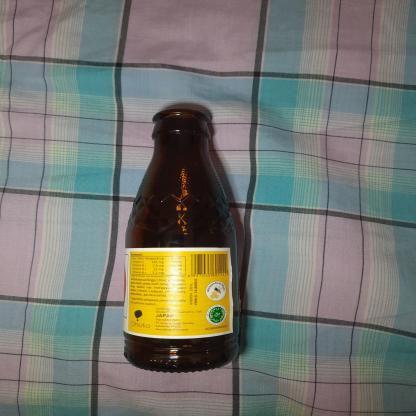bottle: (113, 99, 250, 371)
